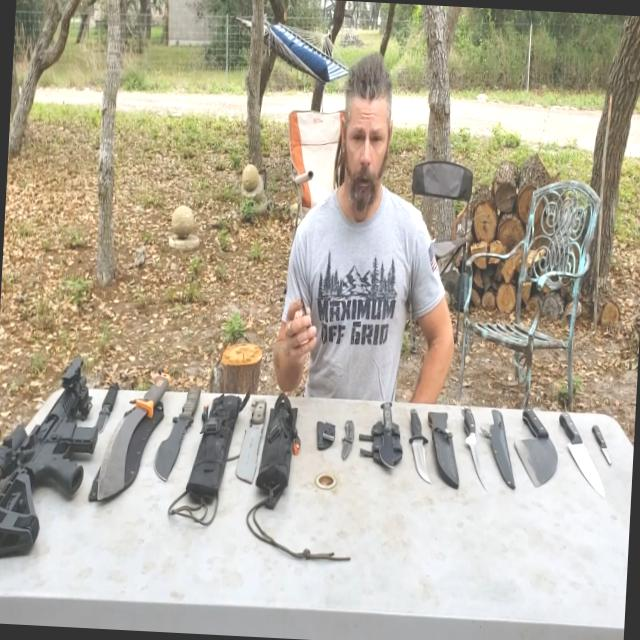knife: (87, 373, 181, 519), (136, 368, 206, 485), (552, 397, 614, 512), (514, 384, 570, 493), (77, 358, 132, 466), (451, 381, 502, 495), (274, 249, 326, 351), (235, 394, 276, 496), (362, 392, 402, 488), (398, 400, 438, 484), (330, 394, 364, 481), (584, 416, 624, 478)
long weapon: (0, 337, 106, 587)
